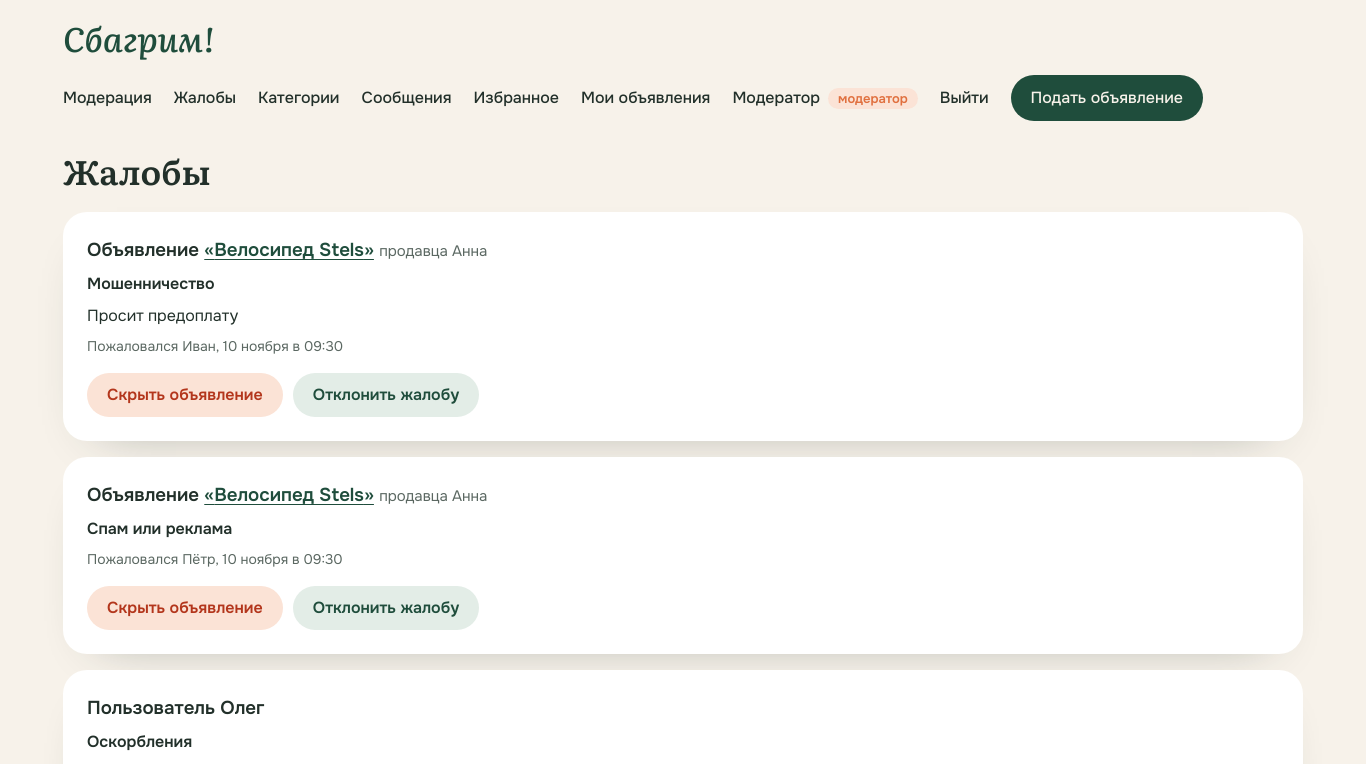
Scenario: жалобы у модератора › отклонение убирает только эту жалобу
Check: the text "Просит предоплату" is shown, box [87,305,238,326]
What coordinates should you click on to do the following:
click the button "Отклонить жалобу" below "Мошенничество"
I would click on:
 (386, 395)
Its box is [293,373,479,417].
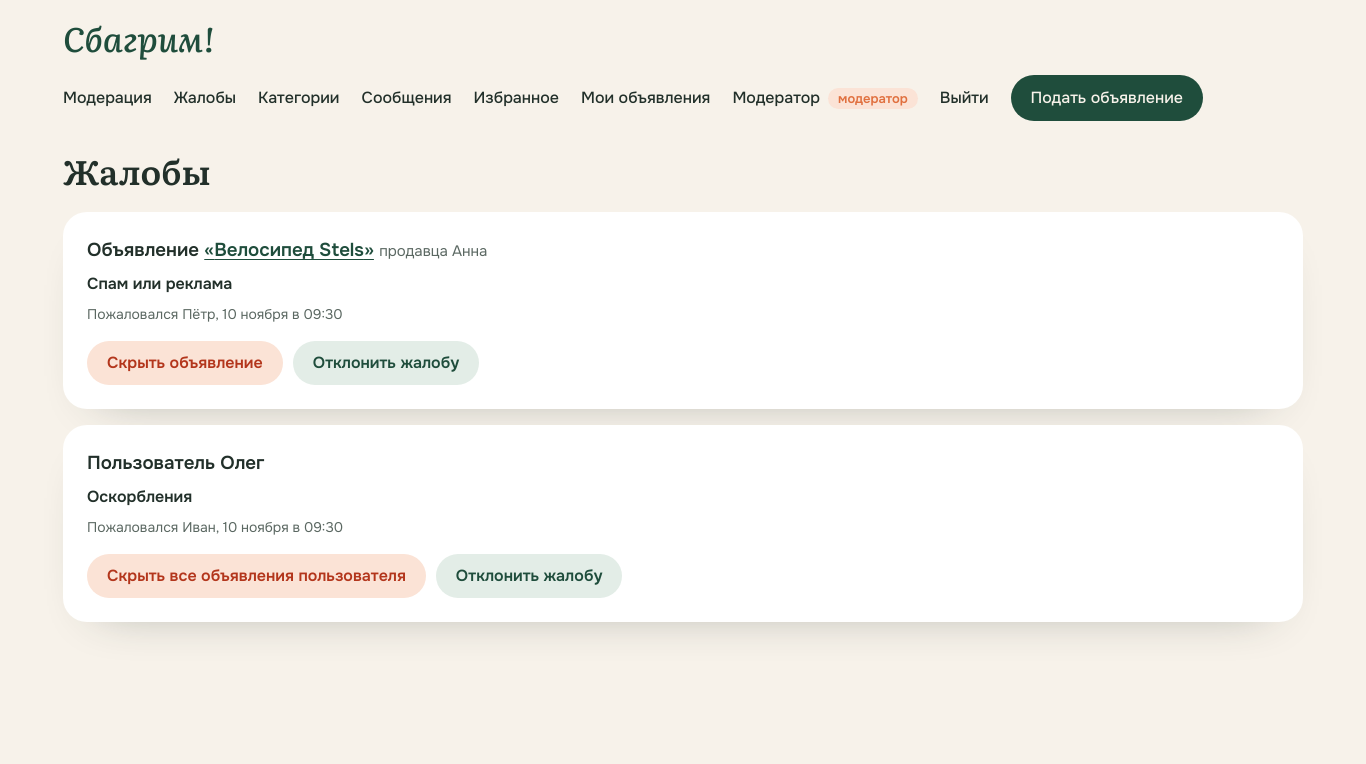
Check: the text "Просит предоплату" is gone
